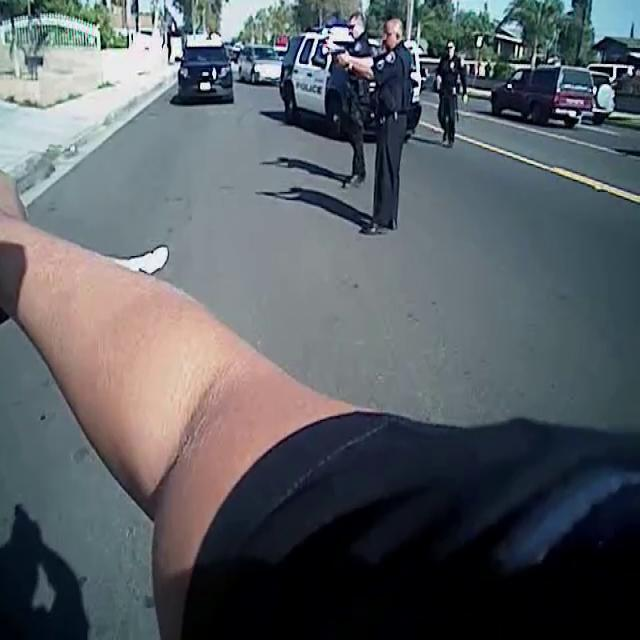gun: (314, 34, 352, 70)
